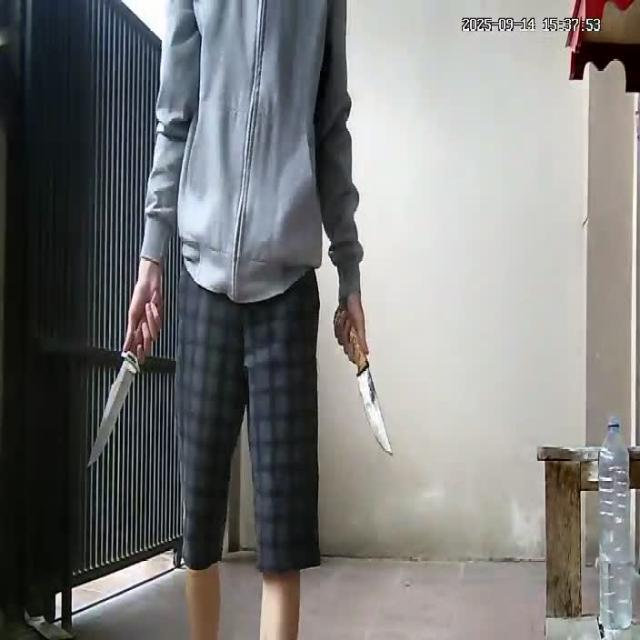senjata_tajam: (84, 345, 141, 472), (350, 331, 396, 458)
